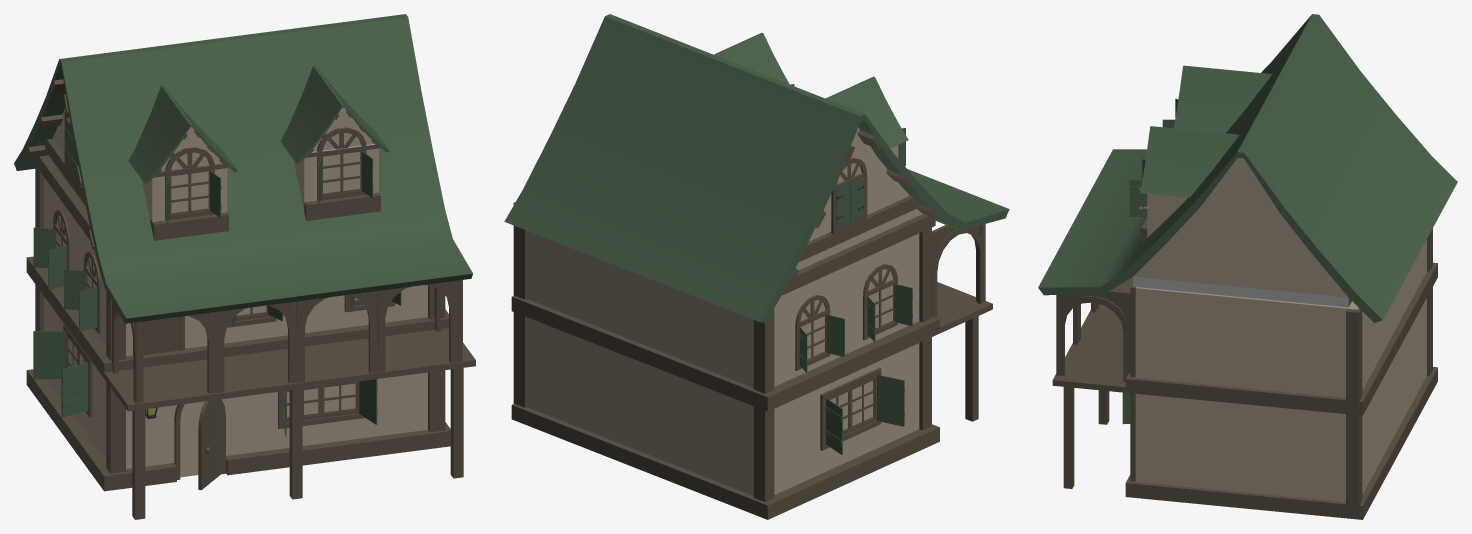
Rendered from House_4.fbx.
3 views of the same model, side by side, from view 1: azimuth 30°, elevation 25°; view 2: azimuth 150°, elevation 25°; view 3: azimuth 270°, elevation 25° (orthographic). The views are drawn at different scales.
Parts seen in each view (by area): view 1: house_4, door, contraventana_l, contraventana_r, polySurface27, polySurface17, contraventana_r1, polySurface20, polySurface28; view 2: house_4, contraventana_r, contraventana_l, polySurface17, polySurface28, polySurface30, polySurface29; view 3: house_4, polySurface34.
Part boxes in pixels (x1,y1,x2,y2): house_4: (14, 14, 475, 519); door: (198, 399, 221, 490); contraventana_l: (33, 330, 64, 379); contraventana_r: (61, 362, 88, 417); polySurface27: (33, 227, 54, 268); polySurface17: (79, 287, 97, 331); contraventana_r1: (359, 379, 377, 424); polySurface20: (64, 269, 84, 310); polySurface28: (48, 245, 67, 289); house_4: (504, 14, 1009, 519); contraventana_r: (877, 374, 904, 426); contraventana_l: (825, 398, 842, 454); polySurface17: (894, 284, 912, 326); polySurface28: (827, 314, 844, 356); polySurface30: (850, 178, 864, 221); polySurface29: (836, 184, 850, 227); house_4: (1038, 14, 1457, 519); polySurface34: (1129, 180, 1147, 216).
Size of the model in its own units: 912 by 869 by 935.
